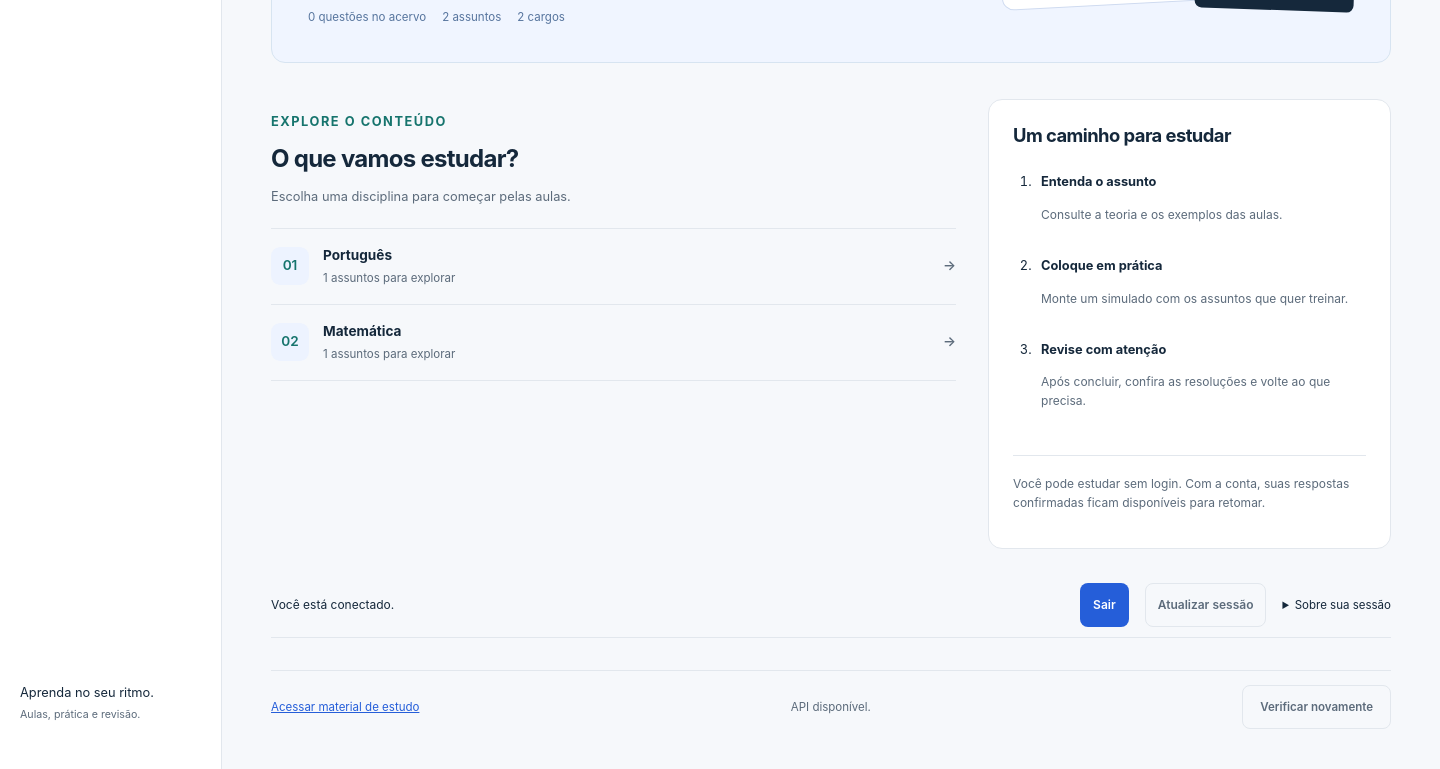
Test: CSRF inválido null não envia logout nem bloqueia retry
(page scrolled)
Click the button "Sair" at (1104, 605), box [1080, 583, 1129, 627]
(page scrolled)
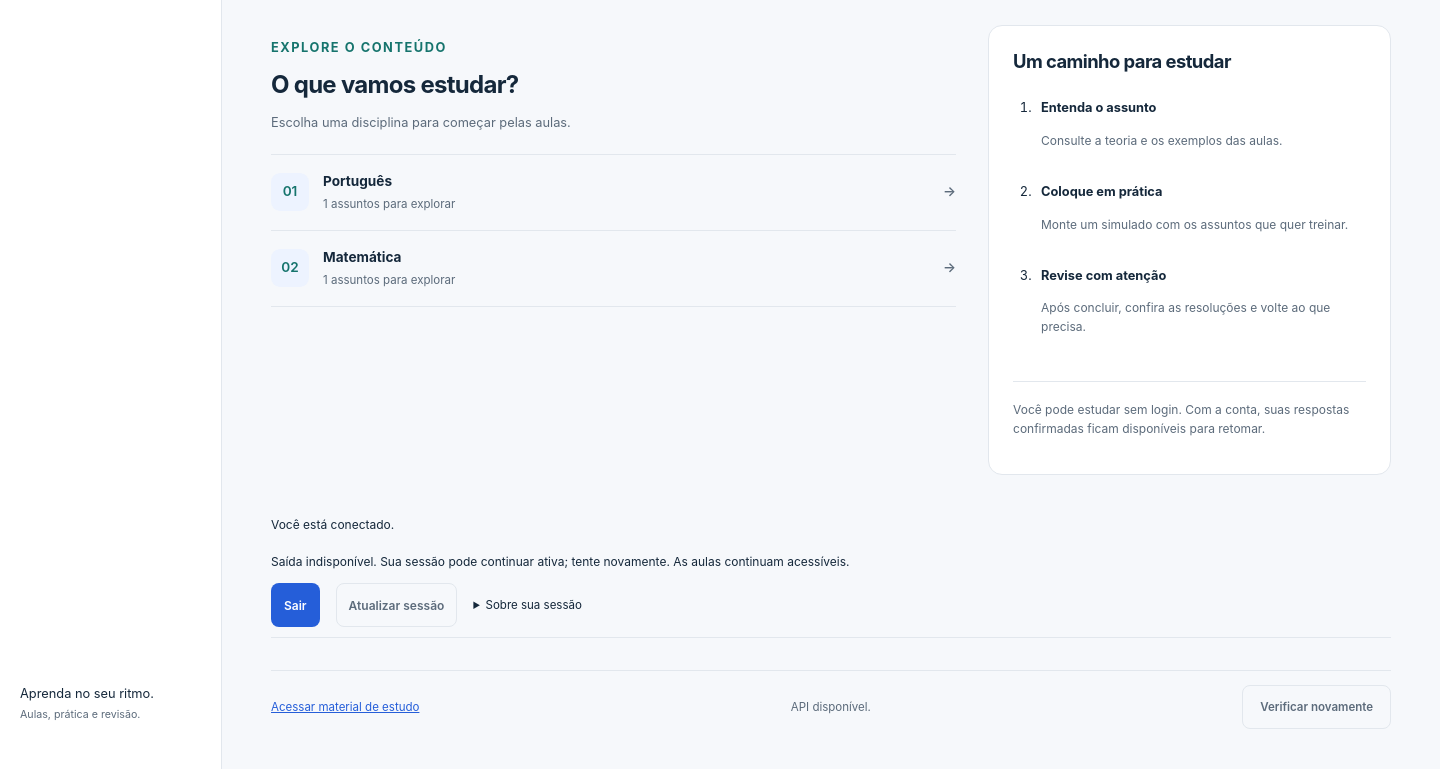
Expected: the button "Sair" is enabled, [271, 583, 320, 627]
Expected: the 2nd message shows "sessão pode continuar ativa", [271, 554, 850, 569]
